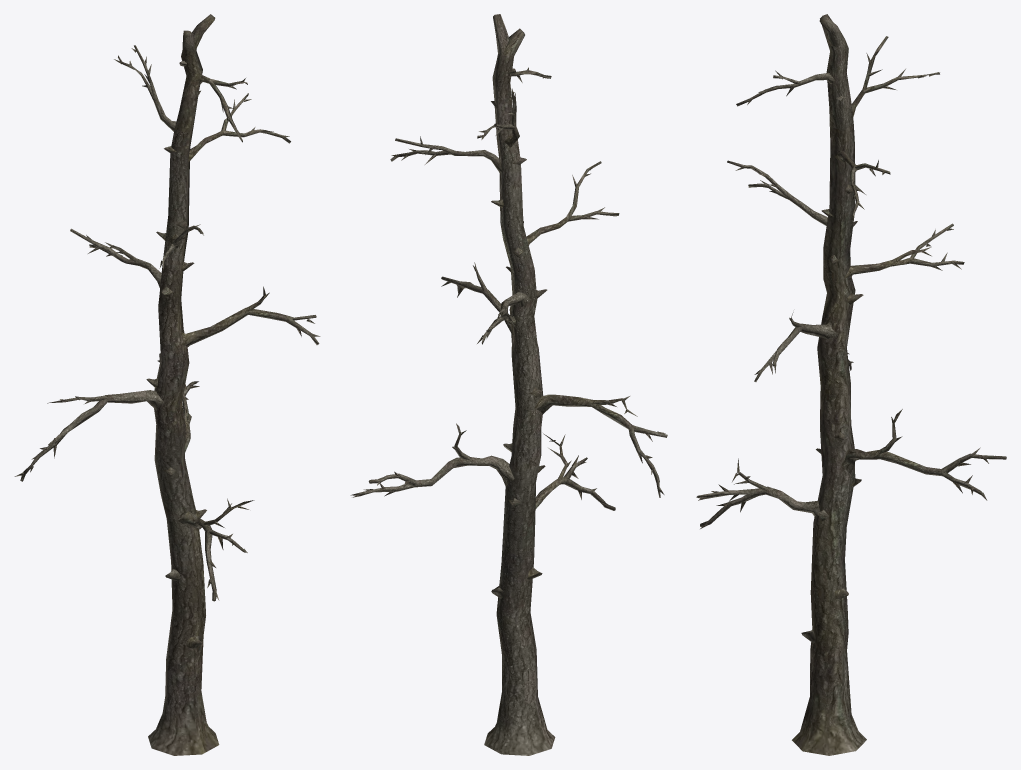
The model's file is pine_dead_f.glb.
The picture shows the model from 3 angles, left to right: view 1: azimuth 30°, elevation 25°; view 2: azimuth 150°, elevation 25°; view 3: azimuth 270°, elevation 25°; orthographic projection. The views are drawn at different scales.
Parts seen in each view (by area): view 1: pine_dead_f_LOD0; view 2: pine_dead_f_LOD0; view 3: pine_dead_f_LOD0.
Part boxes in pixels (x1,y1,x2,y2): pine_dead_f_LOD0: (14, 14, 320, 755); pine_dead_f_LOD0: (350, 14, 667, 755); pine_dead_f_LOD0: (696, 14, 1006, 755).
Bounding box in the file's own units: 5.37 × 13.41 × 5.13.
Materials: 1 (1 with a texture image).
